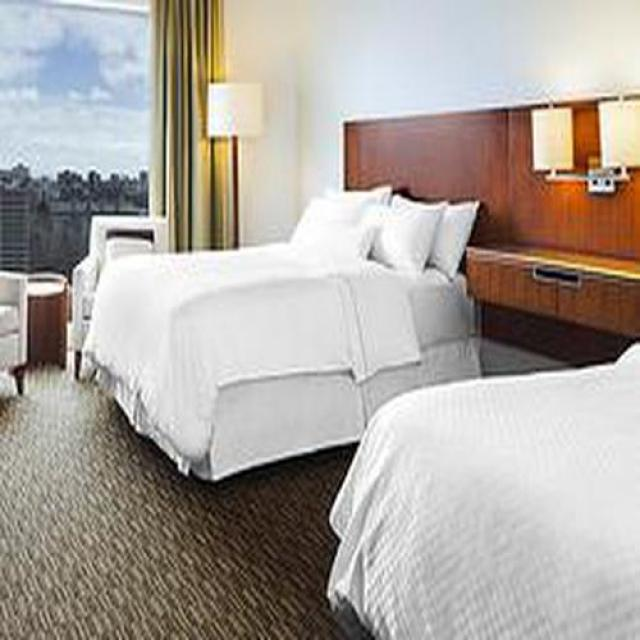bed: (67, 188, 484, 485)
